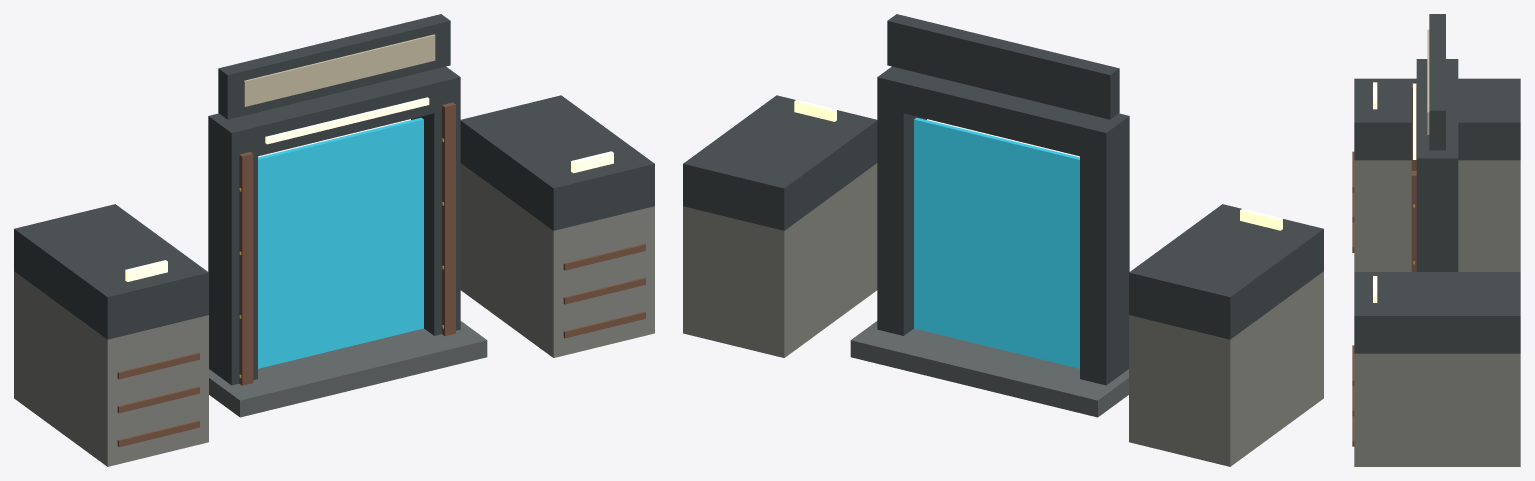
Rendered from Refuge_02_Porte_Ville.fbx.
3 views of the same model, side by side, from view 1: azimuth 30°, elevation 25°; view 2: azimuth 150°, elevation 25°; view 3: azimuth 270°, elevation 25° (orthographic). The views are drawn at different scales.
Visible parts, largest first — view 1: Refuge_02_Porte_Ville_iron, Refuge_02_Porte_Ville_concrete, Refuge_02_Porte_Ville_portal, Refuge_02_Porte_Ville_concrete_dark, Refuge_02_Porte_Ville_rust, Refuge_02_Porte_Ville_paint, Refuge_02_Porte_Ville_glow; view 2: Refuge_02_Porte_Ville_iron, Refuge_02_Porte_Ville_concrete, Refuge_02_Porte_Ville_portal, Refuge_02_Porte_Ville_concrete_dark, Refuge_02_Porte_Ville_glow; view 3: Refuge_02_Porte_Ville_iron, Refuge_02_Porte_Ville_concrete, Refuge_02_Porte_Ville_rust, Refuge_02_Porte_Ville_glow, Refuge_02_Porte_Ville_paint.
Boxes of the visible parts, x1=… form: Refuge_02_Porte_Ville_iron: x1=14, y1=14, x2=654, y2=385; Refuge_02_Porte_Ville_concrete: x1=14, y1=163, x2=654, y2=466; Refuge_02_Porte_Ville_portal: x1=258, y1=117, x2=423, y2=368; Refuge_02_Porte_Ville_concrete_dark: x1=209, y1=321, x2=487, y2=417; Refuge_02_Porte_Ville_rust: x1=117, y1=102, x2=645, y2=447; Refuge_02_Porte_Ville_paint: x1=244, y1=34, x2=435, y2=106; Refuge_02_Porte_Ville_glow: x1=125, y1=97, x2=613, y2=281; Refuge_02_Porte_Ville_iron: x1=683, y1=14, x2=1323, y2=385; Refuge_02_Porte_Ville_concrete: x1=683, y1=163, x2=1323, y2=466; Refuge_02_Porte_Ville_portal: x1=914, y1=117, x2=1079, y2=368; Refuge_02_Porte_Ville_concrete_dark: x1=850, y1=321, x2=1128, y2=417; Refuge_02_Porte_Ville_glow: x1=794, y1=100, x2=1282, y2=230; Refuge_02_Porte_Ville_iron: x1=1354, y1=14, x2=1520, y2=353; Refuge_02_Porte_Ville_concrete: x1=1354, y1=160, x2=1520, y2=466; Refuge_02_Porte_Ville_rust: x1=1352, y1=83, x2=1416, y2=446; Refuge_02_Porte_Ville_glow: x1=1373, y1=82, x2=1416, y2=302; Refuge_02_Porte_Ville_paint: x1=1427, y1=29, x2=1429, y2=134.
Size of the model in its own units: 27 by 15.15 by 8.1.
